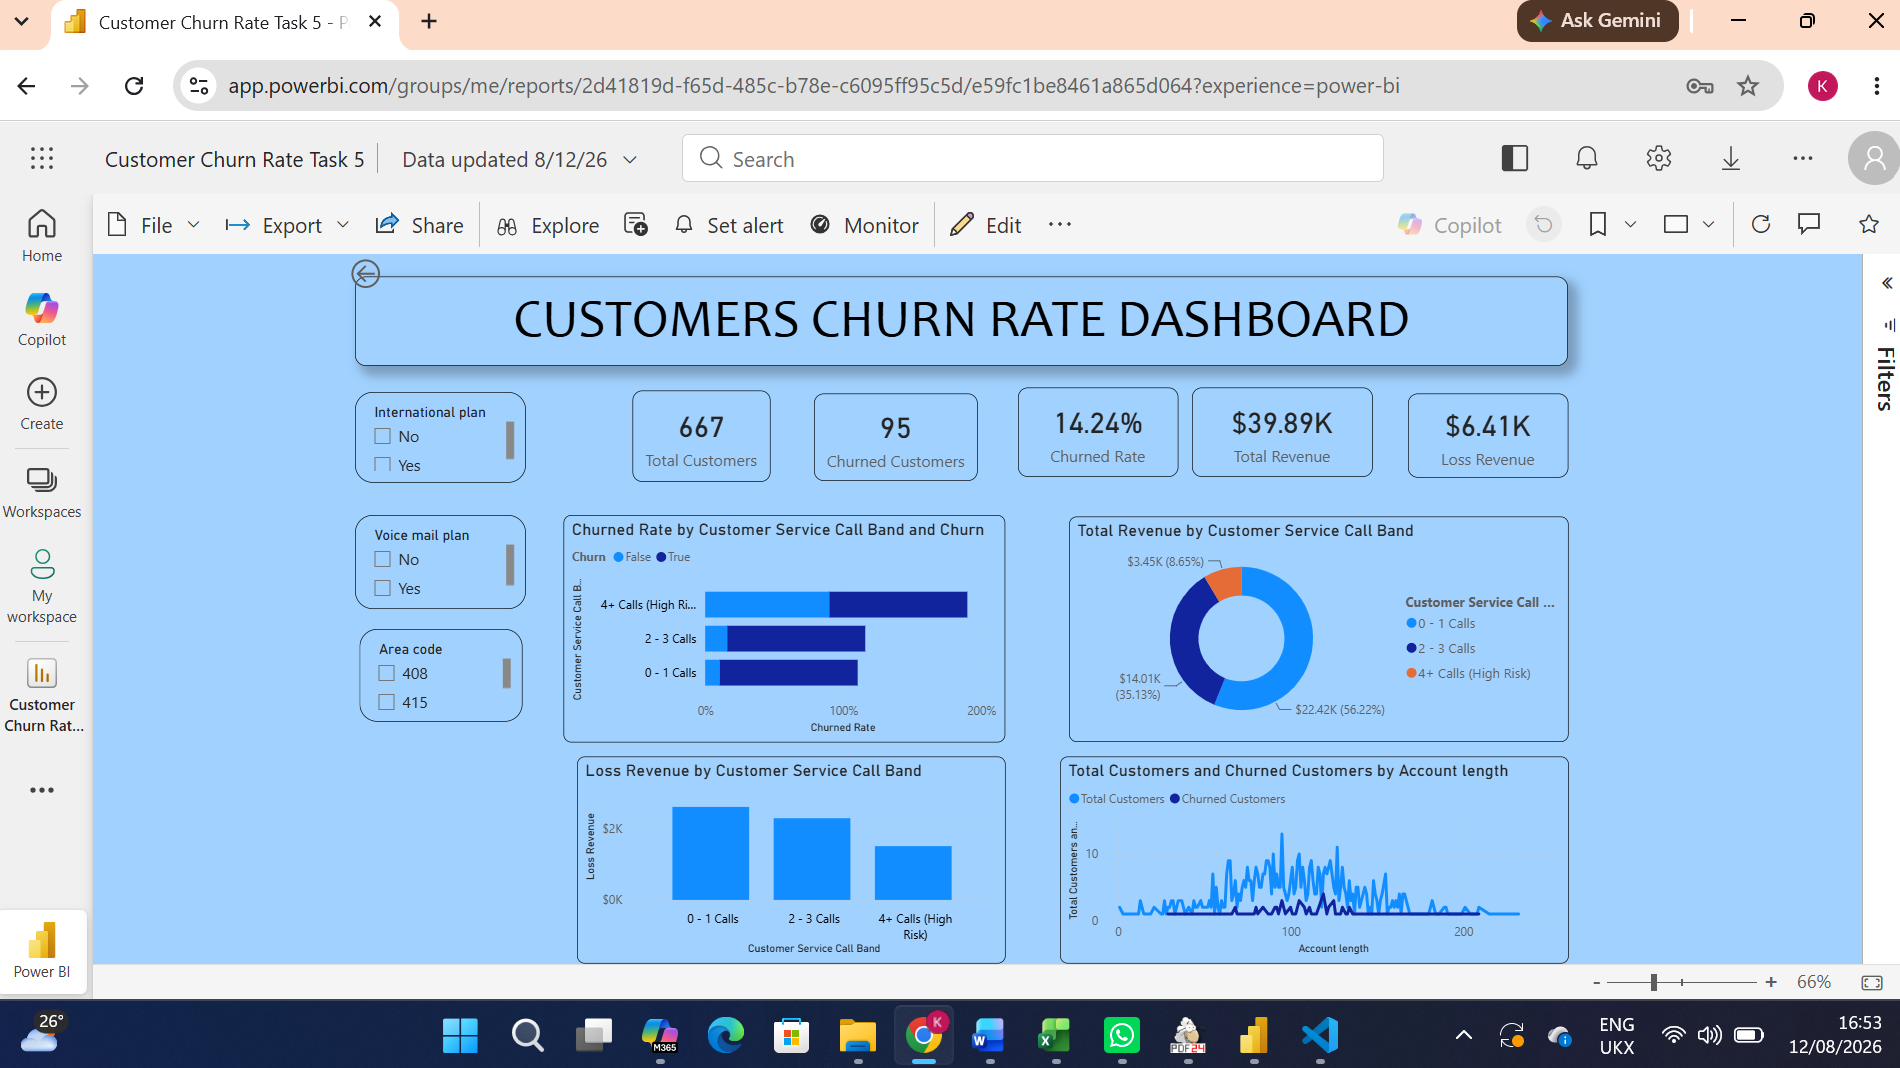

The dashboard page shown, as its layout file describes it:
{"tool":"powerbi","page":{"name":"Page 1","canvas":[1280,720],"ordinal":0},"visuals":[{"type":"textbox","box":[9.4,22.7,1230.2,90.7],"z":0},{"type":"card","fields":{"Values":["churn-bigml-20.Total Customers"]},"box":[291,138,139.8,92.6],"z":1000},{"type":"card","fields":{"Values":["churn-bigml-20.Churn Customers"]},"box":[474.3,141.7,166.3,88.8],"z":2000},{"type":"card","fields":{"Values":["churn-bigml-20.Churned Rate"]},"box":[682.2,136.1,162.5,90.7],"z":3000},{"type":"card","fields":{"Values":["churn-bigml-20.Total Revenue"]},"box":[858,136.1,183.3,90.7],"z":4000},{"type":"card","fields":{"Values":["churn-bigml-20.Loss Revenue"]},"box":[1077.2,141.7,162.5,85],"z":5000},{"type":"barChart","fields":{"Series":["churn-bigml-20.Churn"],"Category":["churn-bigml-20.Customer Service Call Band"],"Y":["churn-bigml-20.Churned Rate"]},"box":[221.1,264.6,447.9,230.6],"z":6000},{"type":"lineChart","fields":{"Category":["churn-bigml-20.Account length"],"Y":["churn-bigml-20.Total Customers","churn-bigml-20.Churned Customers"]},"box":[723.8,510.2,515.9,209.8],"z":7000},{"type":"slicer","fields":{"Values":["churn-bigml-20.International plan"]},"box":[9.7,139.3,173.3,92.3],"z":8000},{"type":"slicer","fields":{"Values":["churn-bigml-20.Voice mail plan"]},"box":[9.7,263.9,173.3,95.5],"z":9000},{"type":"slicer","fields":{"Values":["churn-bigml-20.Area code"]},"box":[13,380.5,165.2,93.9],"z":10000},{"type":"actionButton","box":[0,0,100,40],"z":11000},{"type":"clusteredColumnChart","fields":{"Category":["churn-bigml-20.Customer Service Call Band"],"Y":["churn-bigml-20.Loss Revenue"]},"box":[234.3,510.2,434.6,209.8],"z":11001},{"type":"donutChart","fields":{"Category":["churn-bigml-20.Customer Service Call Band"],"Y":["churn-bigml-20.Total Revenue"]},"box":[733.2,266.5,506.5,228.7],"z":11002}]}

Visuals, with their boxes on the page's 1280x720 design canvas (x1, y1, x2, y2). These are canvas units, not pixel positions in the 1900x1068 screenshot, which may show the page scaled, cropped or inside an application window:
textbox: [left=9, top=23, right=1240, bottom=113]
card - churn-bigml-20.Total Customers: [left=291, top=138, right=431, bottom=231]
card - churn-bigml-20.Churn Customers: [left=474, top=142, right=641, bottom=230]
card - churn-bigml-20.Churned Rate: [left=682, top=136, right=845, bottom=227]
card - churn-bigml-20.Total Revenue: [left=858, top=136, right=1041, bottom=227]
card - churn-bigml-20.Loss Revenue: [left=1077, top=142, right=1240, bottom=227]
barChart - churn-bigml-20.Churn x churn-bigml-20.Customer Service Call Band: [left=221, top=265, right=669, bottom=495]
lineChart - churn-bigml-20.Account length x churn-bigml-20.Total Customers: [left=724, top=510, right=1240, bottom=720]
slicer - churn-bigml-20.International plan: [left=10, top=139, right=183, bottom=232]
slicer - churn-bigml-20.Voice mail plan: [left=10, top=264, right=183, bottom=359]
slicer - churn-bigml-20.Area code: [left=13, top=380, right=178, bottom=474]
actionButton: [left=0, top=0, right=100, bottom=40]
clusteredColumnChart - churn-bigml-20.Customer Service Call Band x churn-bigml-20.Loss Revenue: [left=234, top=510, right=669, bottom=720]
donutChart - churn-bigml-20.Customer Service Call Band x churn-bigml-20.Total Revenue: [left=733, top=266, right=1240, bottom=495]
